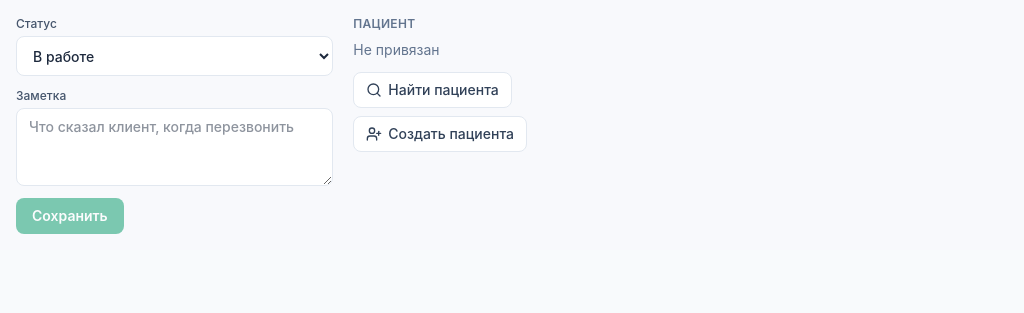
Test: lead details › patient, not linked › keeps a created patient as the candidate when the link fails: «Привязать» retries without creating a second one
Click the button "Создать пациента": (440, 134) [353,116,527,152]
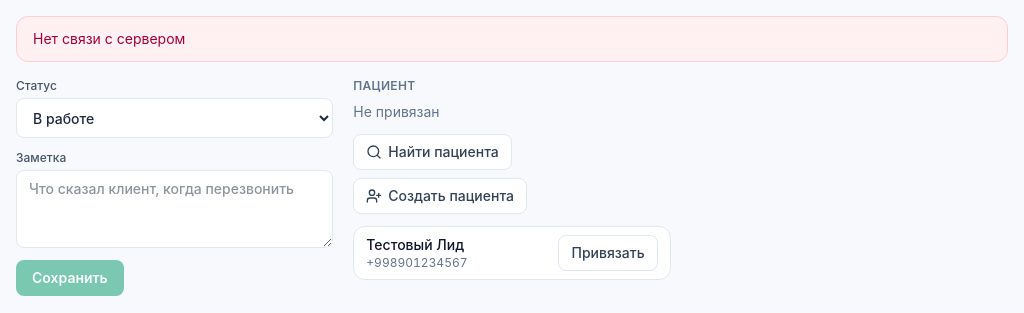
Expected: the message "Нет связи с сервером" is shown, [16,16,1008,62]
Click the button "Привязать": (608, 253) [558,235,658,271]
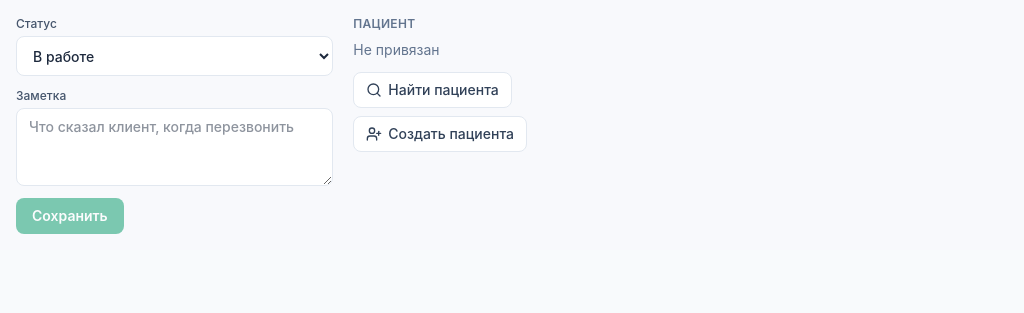
Expected: no messages are shown
